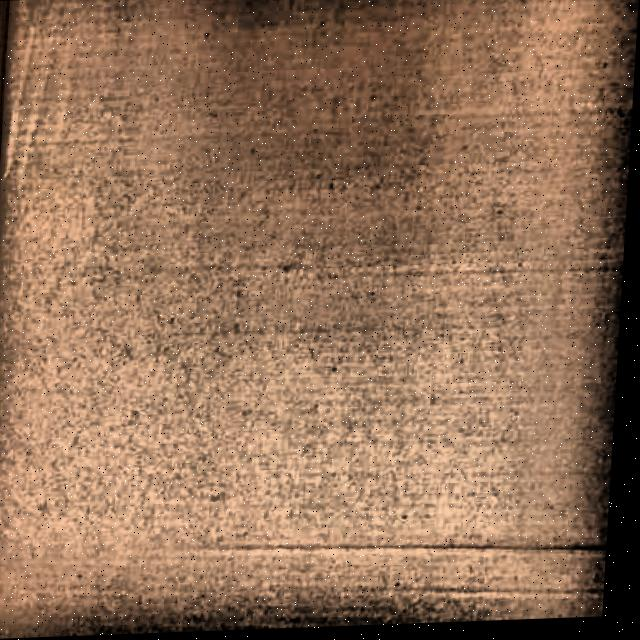cardboard: (0, 0, 638, 640)
